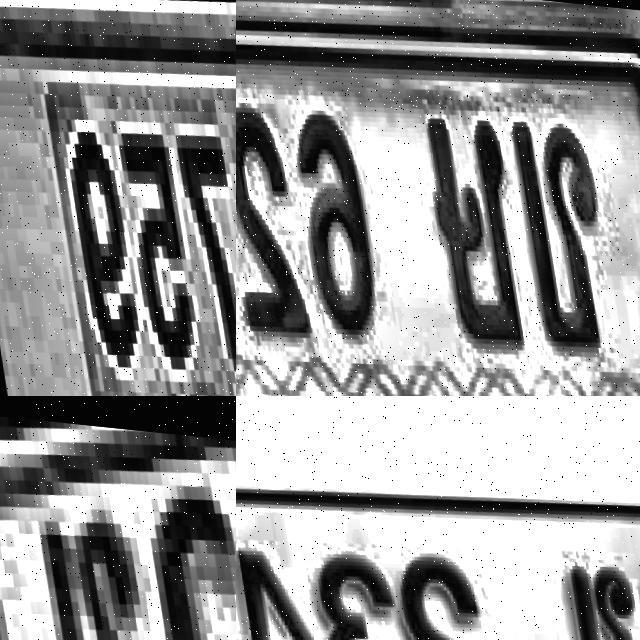license-plate: (236, 0, 640, 396), (0, 10, 236, 396), (236, 430, 640, 640), (0, 396, 236, 640)
